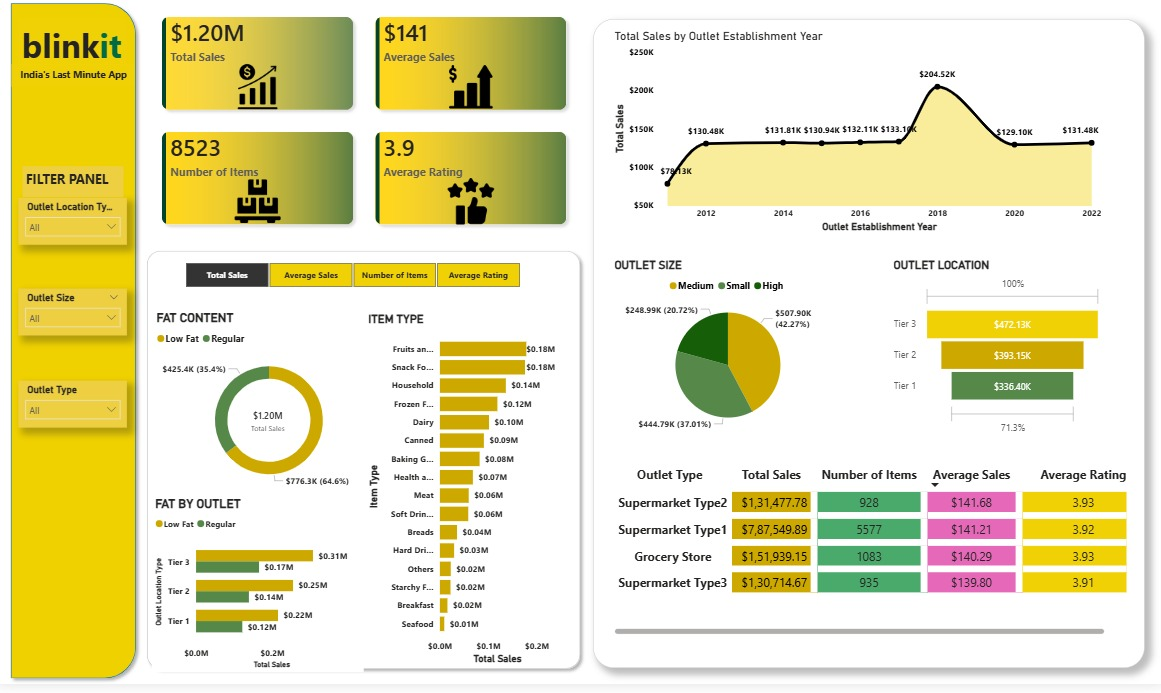

Layout of this report page (visuals, bound fields, positions):
{"tool":"powerbi","page":{"name":"Page 1","canvas":[1700,1000],"ordinal":0},"visuals":[{"type":"shape","box":[13.3,0,200,1000],"z":0},{"type":"textbox","box":[33.5,32,158.6,81.5],"z":1000},{"type":"textbox","box":[24,98,178,32],"z":2000},{"type":"cardVisual","fields":{"Data":["BlinkIT Grocery Data.Total Sales","BlinkIT Grocery Data.Average Sales","BlinkIT Grocery Data.Number of Items","BlinkIT Grocery Data.Average Rating"]},"box":[213.3,0,646.7,360],"z":3000},{"type":"shape","box":[212,360,648,626],"z":4000},{"type":"donutChart","title":"FAT CONTENT","fields":{"Y":["BlinkIT Grocery Data.Total Sales"],"Category":["BlinkIT Grocery Data.Item Fat Content"]},"box":[230,456.7,336.7,270],"z":5000},{"type":"slicer","fields":{"Values":["Metrics.Metrics"]},"box":[251.7,380,535,48.3],"z":6000},{"type":"clusteredBarChart","title":"FAT BY OUTLET","fields":{"Y":["BlinkIT Grocery Data.Total Sales"],"Category":["BlinkIT Grocery Data.Outlet Location Type"],"Series":["BlinkIT Grocery Data.Item Fat Content"]},"box":[228,726,308,256],"z":7000},{"type":"cardVisual","fields":{"Data":["BlinkIT Grocery Data.Total Sales"]},"box":[342.9,565.7,110,100],"z":8000},{"type":"barChart","title":"ITEM TYPE","fields":{"Y":["BlinkIT Grocery Data.Total Sales"],"Category":["BlinkIT Grocery Data.Item Type"]},"box":[537.1,457.1,300,517.1],"z":9000},{"type":"textbox","box":[870,32,802,944],"z":10000},{"type":"pieChart","title":"OUTLET SIZE","fields":{"Y":["BlinkIT Grocery Data.Total Sales"],"Category":["BlinkIT Grocery Data.Outlet Size"]},"box":[896,380,340,262],"z":11000},{"type":"funnel","title":"OUTLET LOCATION","fields":{"Y":["BlinkIT Grocery Data.Total Sales"],"Category":["BlinkIT Grocery Data.Outlet Location Type"]},"box":[1302,380,312,262],"z":12000},{"type":"lineChart","fields":{"Y":["BlinkIT Grocery Data.Total Sales"],"Category":["BlinkIT Grocery Data.Outlet Establishment Year"]},"box":[896,46,718,300],"z":13000},{"type":"pivotTable","fields":{"Rows":["BlinkIT Grocery Data.Outlet Type"],"Values":["BlinkIT Grocery Data.Total Sales","BlinkIT Grocery Data.Number of Items","BlinkIT Grocery Data.Average Sales","BlinkIT Grocery Data.Average Rating"]},"box":[896.7,673.3,755,258.3],"z":14000},{"type":"slicer","fields":{"Values":["BlinkIT Grocery Data.Outlet Location Type"]},"box":[34,292,158,68],"z":15000},{"type":"slicer","fields":{"Values":["BlinkIT Grocery Data.Outlet Size"]},"box":[34,424,158,68],"z":16000},{"type":"slicer","fields":{"Values":["BlinkIT Grocery Data.Outlet Type"]},"box":[34,558,158,68],"z":17000},{"type":"textbox","box":[40,246.7,146.7,45],"z":18000}]}

Visuals, with their boxes in screenshot pixels (x1, y1, x2, y2), scaled from the page's 1700x1000 canvas onto the 1161x693 screenshot:
shape: [9, 0, 146, 692]
textbox: [23, 22, 131, 79]
textbox: [16, 68, 138, 90]
cardVisual - BlinkIT Grocery Data.Total Sales x BlinkIT Grocery Data.Average Sales: [146, 0, 587, 249]
shape: [145, 249, 587, 683]
"FAT CONTENT" donutChart: [157, 316, 387, 504]
slicer - Metrics.Metrics: [172, 263, 537, 297]
"FAT BY OUTLET" clusteredBarChart: [156, 503, 366, 681]
cardVisual - BlinkIT Grocery Data.Total Sales: [234, 392, 309, 461]
"ITEM TYPE" barChart: [367, 317, 572, 675]
textbox: [594, 22, 1142, 676]
"OUTLET SIZE" pieChart: [612, 263, 844, 445]
"OUTLET LOCATION" funnel: [889, 263, 1102, 445]
lineChart - BlinkIT Grocery Data.Total Sales x BlinkIT Grocery Data.Outlet Establishment Year: [612, 32, 1102, 240]
pivotTable - BlinkIT Grocery Data.Outlet Type x BlinkIT Grocery Data.Total Sales: [612, 467, 1128, 646]
slicer - BlinkIT Grocery Data.Outlet Location Type: [23, 202, 131, 249]
slicer - BlinkIT Grocery Data.Outlet Size: [23, 294, 131, 341]
slicer - BlinkIT Grocery Data.Outlet Type: [23, 387, 131, 434]
textbox: [27, 171, 128, 202]
